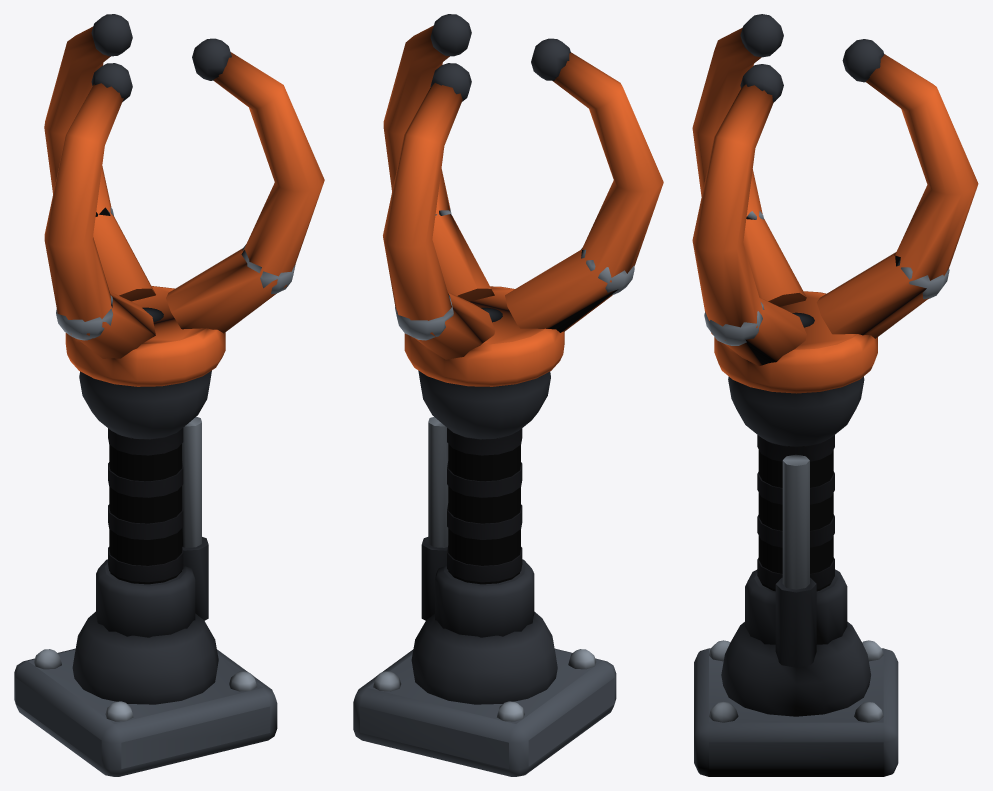
File: part_grapple_2.glb
The picture shows the model from 3 angles, left to right: view 1: azimuth 30°, elevation 25°; view 2: azimuth 150°, elevation 25°; view 3: azimuth 270°, elevation 25°; orthographic projection.
Visible parts, largest first — view 1: grapple_claw_mesh.001, grapple_base.001, grapple_arm_mesh.001; view 2: grapple_claw_mesh.001, grapple_base.001, grapple_arm_mesh.001; view 3: grapple_claw_mesh.001, grapple_base.001, grapple_arm_mesh.001.
Boxes of the visible parts, x1=… form: grapple_claw_mesh.001: x1=44, y1=14, x2=324, y2=439; grapple_base.001: x1=14, y1=611, x2=277, y2=776; grapple_arm_mesh.001: x1=96, y1=416, x2=208, y2=637; grapple_claw_mesh.001: x1=383, y1=14, x2=663, y2=439; grapple_base.001: x1=353, y1=611, x2=616, y2=776; grapple_arm_mesh.001: x1=421, y1=417, x2=534, y2=637; grapple_claw_mesh.001: x1=692, y1=14, x2=978, y2=446; grapple_base.001: x1=694, y1=621, x2=898, y2=776; grapple_arm_mesh.001: x1=745, y1=435, x2=847, y2=667.
Size of the model in its own units: 0.5425 by 1.31 by 0.4827.
